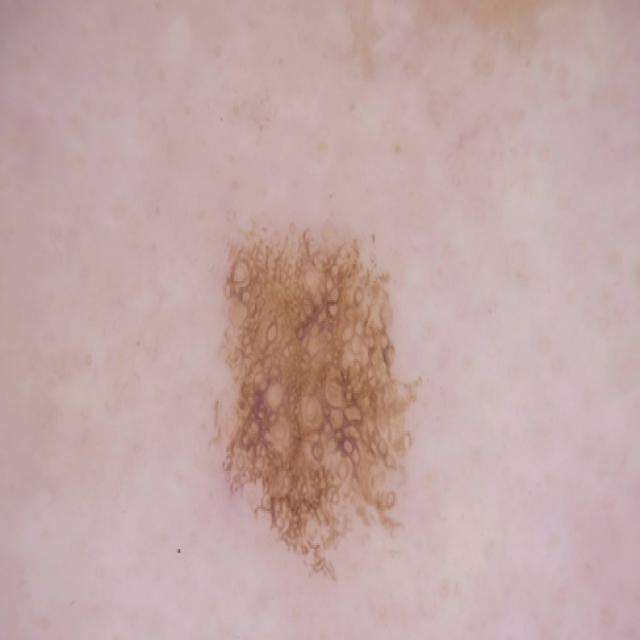Keratosis: (191, 200, 471, 605)
